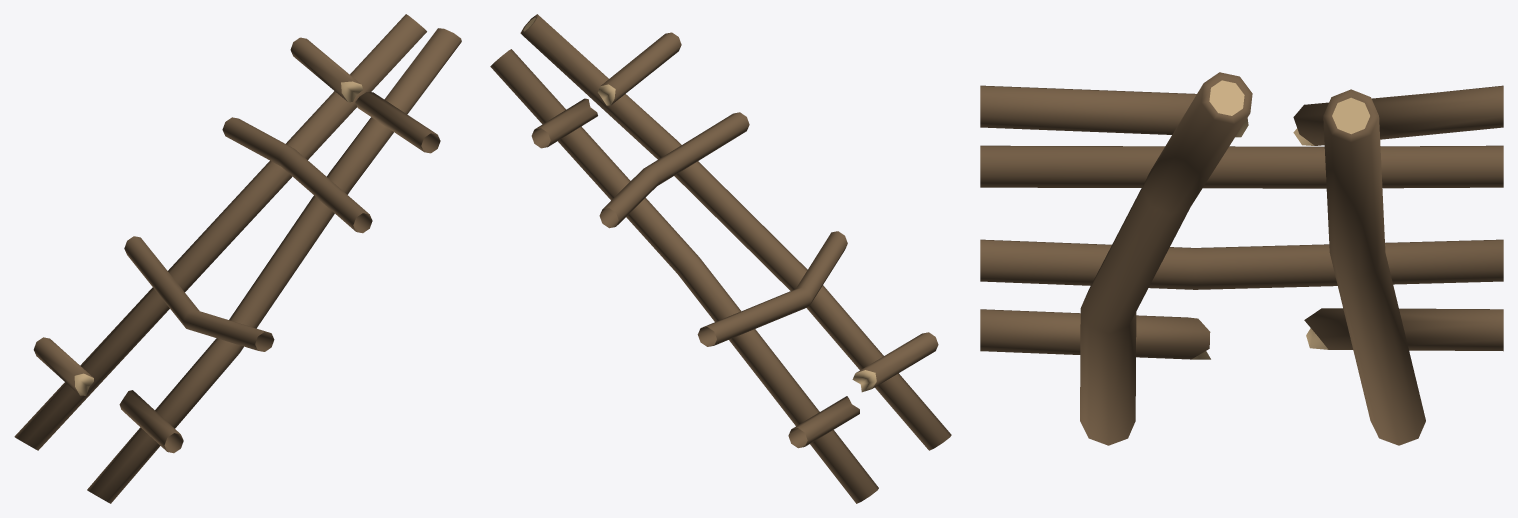
Rendered from rpgpp_av_roof_support_01_9x4x3_half_a.fbx.
3 renders of one model, left to right at view 1: azimuth 30°, elevation 25°; view 2: azimuth 150°, elevation 25°; view 3: azimuth 270°, elevation 25°, orthographic. The views are drawn at different scales.
Visible parts, largest first — view 1: rpgpp_av_roof_support_01_9x4x3_half_a; view 2: rpgpp_av_roof_support_01_9x4x3_half_a; view 3: rpgpp_av_roof_support_01_9x4x3_half_a.
Boxes of the visible parts, <box> form: rpgpp_av_roof_support_01_9x4x3_half_a: <box>14,14,461,503</box>; rpgpp_av_roof_support_01_9x4x3_half_a: <box>490,14,951,503</box>; rpgpp_av_roof_support_01_9x4x3_half_a: <box>980,72,1503,445</box>.
Bounding box in the file's own units: 528 × 461 × 300.
